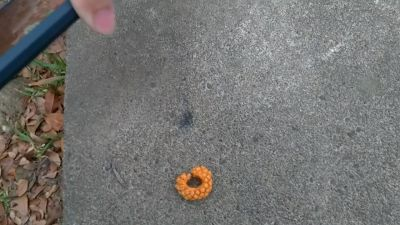eggs: (172, 164, 215, 202)
